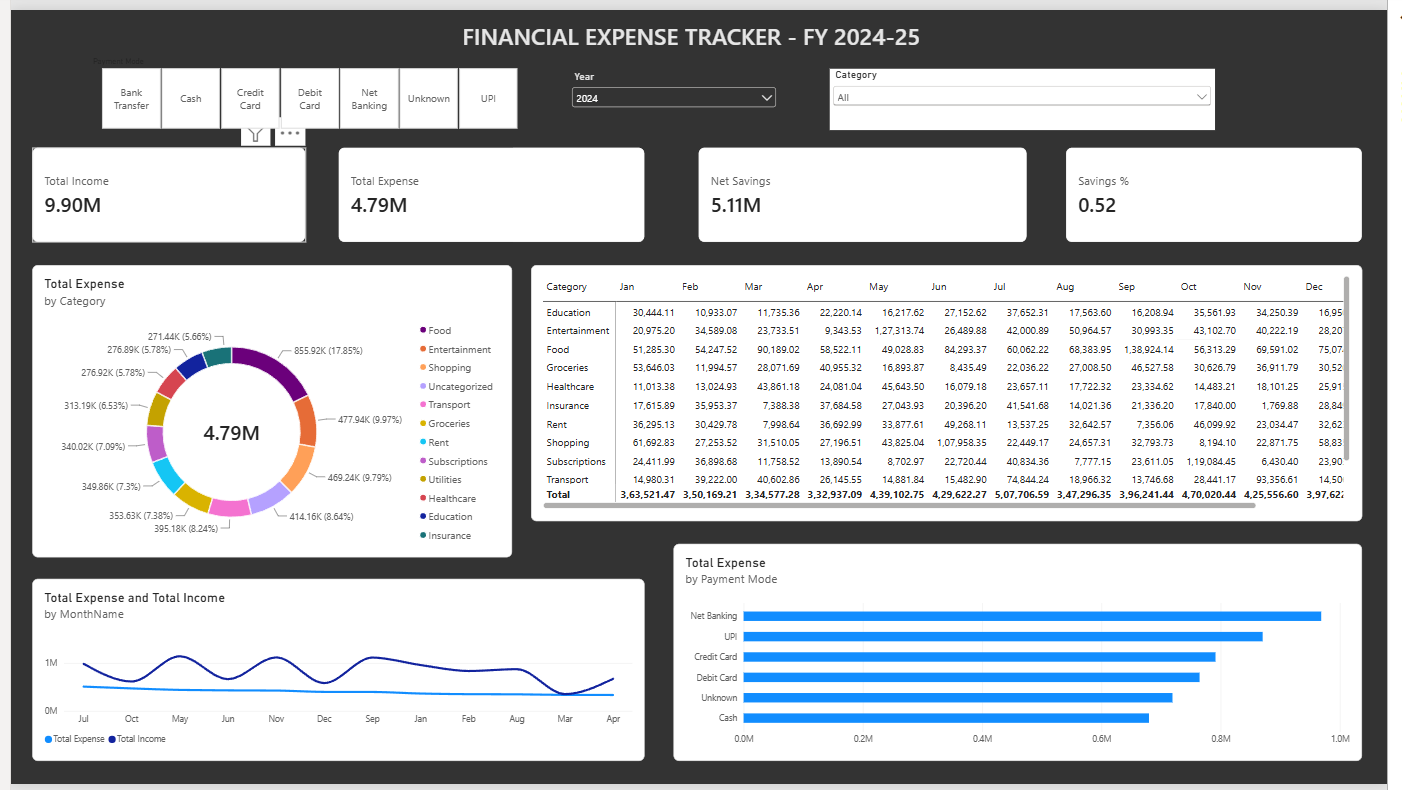

What the dashboard file says about the page in this screenshot:
{"tool":"powerbi","page":{"name":"Page 1","canvas":[1920,1080],"ordinal":0},"visuals":[{"type":"cardVisual","fields":{"Data":["cleaned_expense_data_v2.Total Expense"]},"box":[457,191.9,427.3,132.6],"z":0},{"type":"cardVisual","fields":{"Data":["cleaned_expense_data_v2.Total Income"]},"box":[29.7,191.9,382,132.6],"z":1000},{"type":"cardVisual","fields":{"Data":["cleaned_expense_data_v2.Net Savings"]},"box":[959.3,191.9,458.7,132.6],"z":2000},{"type":"cardVisual","fields":{"Data":["cleaned_expense_data_v2.Savings %"]},"box":[1472.1,191.9,413.4,132.6],"z":3000},{"type":"lineChart","fields":{"Category":["cleaned_expense_data_v2.MonthName"],"Y":["cleaned_expense_data_v2.Total Expense","cleaned_expense_data_v2.Total Income"]},"box":[29.7,793.6,854.7,254.7],"z":4000},{"type":"donutChart","fields":{"Category":["cleaned_expense_data_v2.Category"],"Y":["cleaned_expense_data_v2.Total Expense"]},"box":[29.7,355.8,669.8,408.1],"z":5000},{"type":"pivotTable","fields":{"Columns":["cleaned_expense_data_v2.MonthName"],"Rows":["cleaned_expense_data_v2.Category"],"Values":["cleaned_expense_data_v2.Total Expense"]},"box":[725.6,355.8,1159.9,357.6],"z":6000},{"type":"slicer","fields":{"Values":["cleaned_expense_data_v2.Year"]},"box":[777.9,83.7,294.8,85.5],"z":7000},{"type":"slicer","fields":{"Values":["cleaned_expense_data_v2.Category"]},"box":[1142.4,82,537.2,85.5],"z":8000},{"type":"slicer","fields":{"Values":["cleaned_expense_data_v2.Payment Mode"]},"box":[106.4,64.5,619.2,102.9],"z":9000},{"type":"barChart","fields":{"Category":["cleaned_expense_data_v2.Payment Mode"],"Y":["cleaned_expense_data_v2.Total Expense"]},"box":[924.4,744.8,961,303.5],"z":10000},{"type":"textbox","box":[629.7,14,654.1,50.6],"z":11000}]}

Visuals, with their boxes in screenshot pixels (x1, y1, x2, y2), scaled from the page's 1920x1080 canvas onto the 1402x790 screenshot:
cardVisual - cleaned_expense_data_v2.Total Expense: left=334, top=140, right=646, bottom=237
cardVisual - cleaned_expense_data_v2.Total Income: left=22, top=140, right=301, bottom=237
cardVisual - cleaned_expense_data_v2.Net Savings: left=700, top=140, right=1035, bottom=237
cardVisual - cleaned_expense_data_v2.Savings %: left=1075, top=140, right=1377, bottom=237
lineChart - cleaned_expense_data_v2.MonthName x cleaned_expense_data_v2.Total Expense: left=22, top=581, right=646, bottom=767
donutChart - cleaned_expense_data_v2.Category x cleaned_expense_data_v2.Total Expense: left=22, top=260, right=511, bottom=559
pivotTable - cleaned_expense_data_v2.MonthName x cleaned_expense_data_v2.Category: left=530, top=260, right=1377, bottom=522
slicer - cleaned_expense_data_v2.Year: left=568, top=61, right=783, bottom=124
slicer - cleaned_expense_data_v2.Category: left=834, top=60, right=1226, bottom=123
slicer - cleaned_expense_data_v2.Payment Mode: left=78, top=47, right=530, bottom=122
barChart - cleaned_expense_data_v2.Payment Mode x cleaned_expense_data_v2.Total Expense: left=675, top=545, right=1377, bottom=767
textbox: left=460, top=10, right=937, bottom=47
